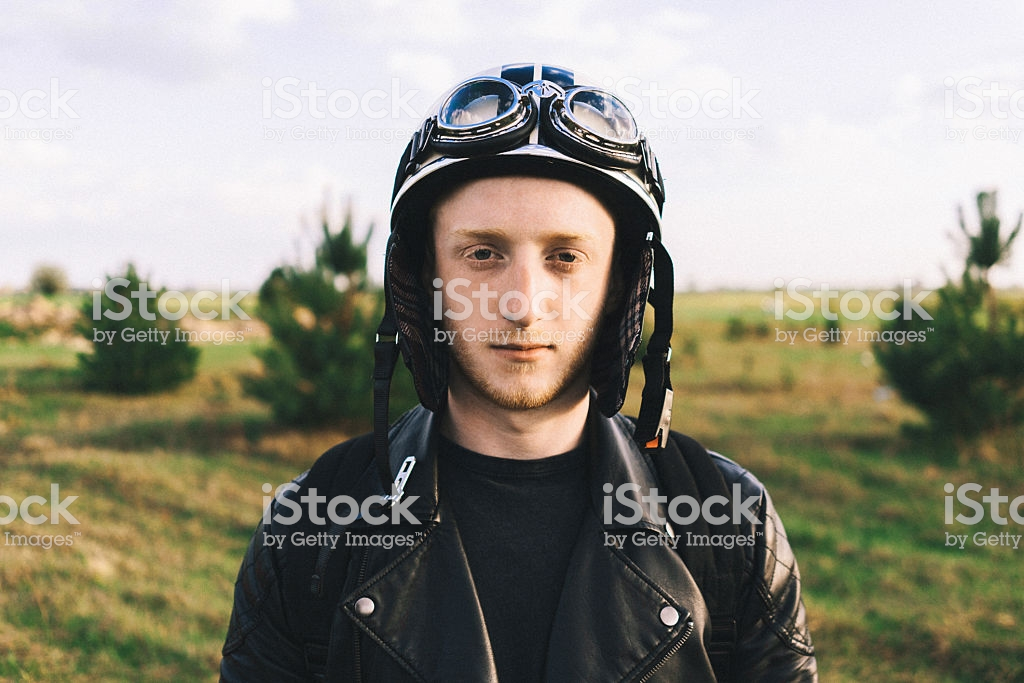helmet: (382, 92, 670, 382)
